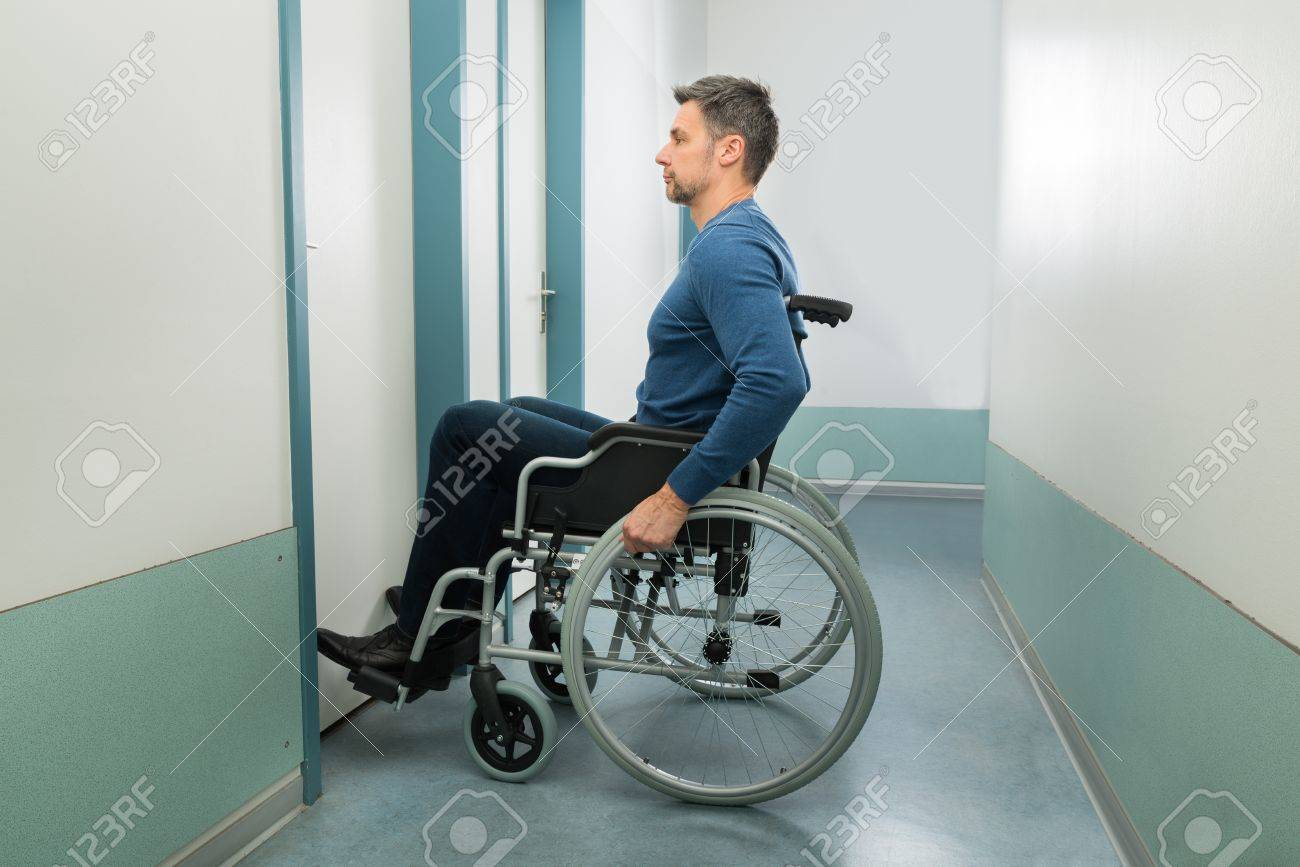wheelchair: (314, 76, 882, 803)
